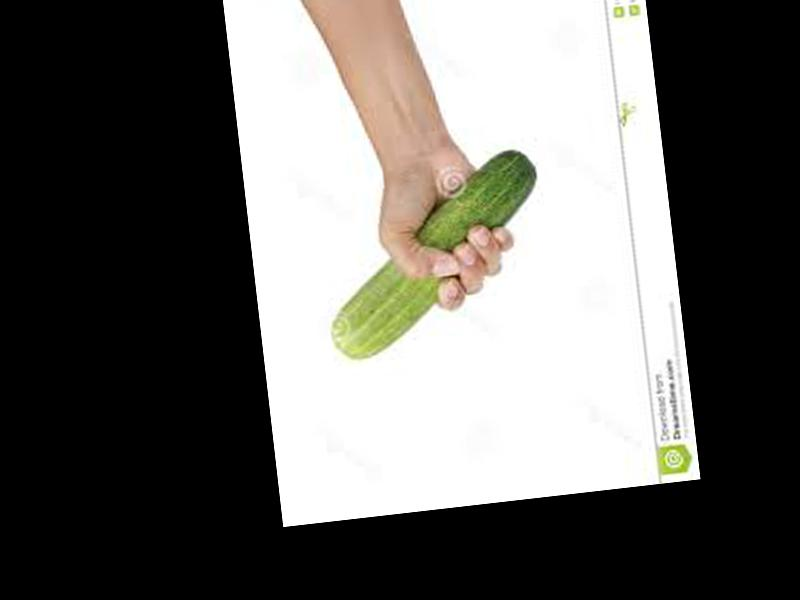Cucumber: (314, 143, 555, 361)
